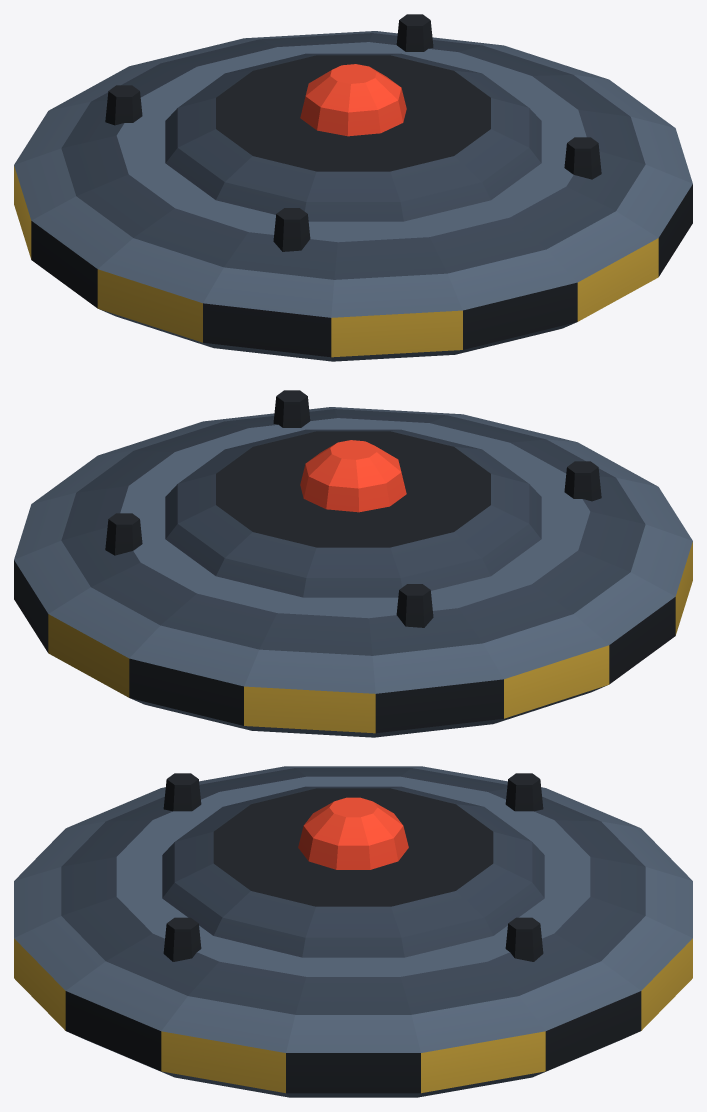
File: Mine.fbx
3 views of the same model, one above another, from view 1: azimuth 30°, elevation 25°; view 2: azimuth 150°, elevation 25°; view 3: azimuth 270°, elevation 25° (orthographic).
Visible parts, largest first — view 1: Shell, Cap, Light, Studs; view 2: Shell, Cap, Light, Studs; view 3: Shell, Cap, Light, Studs.
Part boxes in pixels (x1=…): Shell: x1=14, y1=31, x2=692, y2=361; Cap: x1=165, y1=53, x2=541, y2=221; Light: x1=300, y1=64, x2=406, y2=136; Studs: x1=105, y1=14, x2=601, y2=251; Shell: x1=14, y1=407, x2=692, y2=737; Cap: x1=165, y1=429, x2=541, y2=597; Light: x1=300, y1=440, x2=406, y2=512; Studs: x1=105, y1=390, x2=601, y2=627; Shell: x1=14, y1=766, x2=692, y2=1097; Cap: x1=162, y1=786, x2=544, y2=957; Light: x1=298, y1=797, x2=408, y2=869; Studs: x1=163, y1=773, x2=543, y2=961.
Size of the model in its own units: 0.8435 by 0.215 by 0.8435.
2 materials, 2 textured.
